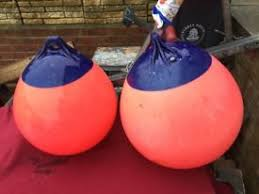buoy: (119, 55, 246, 169), (13, 61, 119, 159)
